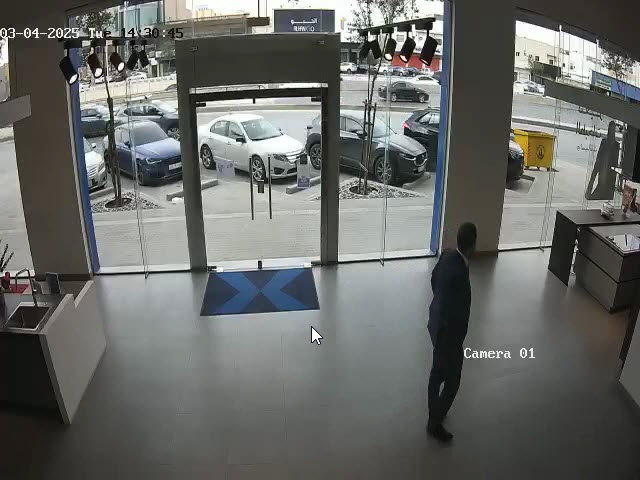employee: (426, 222, 478, 442)
